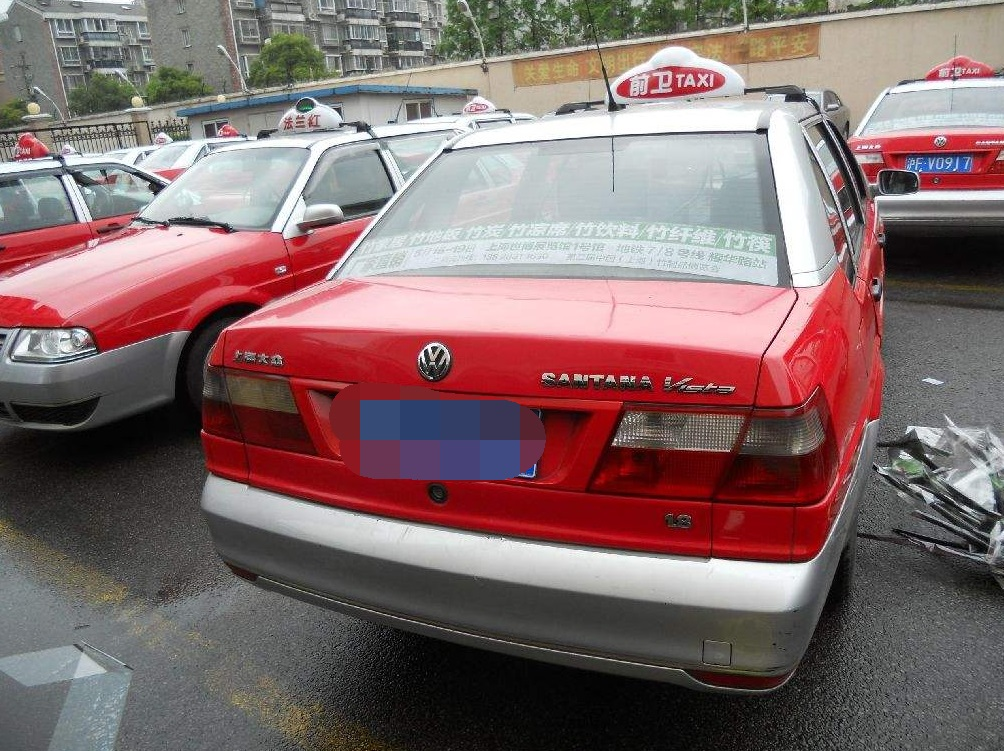taxi: (192, 43, 921, 712)
